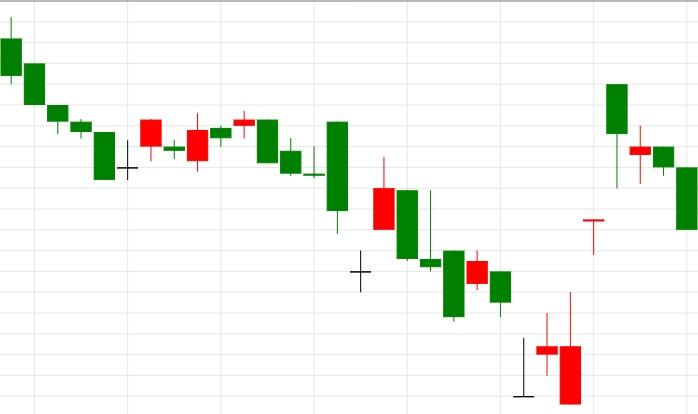morning_star_rise: (257, 119, 395, 293)
